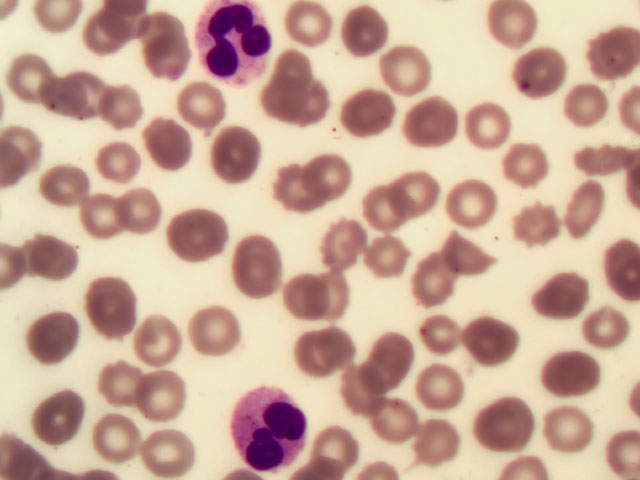RBC: (534, 262, 592, 320), (574, 298, 632, 356), (456, 319, 514, 377), (409, 308, 467, 366), (370, 334, 428, 392), (308, 325, 366, 383), (273, 324, 331, 382), (287, 264, 345, 322), (185, 306, 243, 364), (123, 314, 181, 372), (95, 357, 153, 415), (130, 369, 188, 427), (133, 422, 191, 480), (89, 408, 147, 466), (30, 390, 88, 448), (311, 422, 369, 480), (358, 394, 416, 452), (345, 368, 403, 426), (415, 415, 473, 473), (415, 358, 473, 416), (487, 397, 545, 455), (539, 401, 597, 459), (544, 348, 602, 406), (207, 126, 261, 186), (173, 73, 227, 133), (146, 31, 200, 91), (257, 51, 311, 111), (284, 76, 338, 136), (335, 75, 389, 135), (376, 40, 430, 100), (339, 5, 393, 65), (418, 96, 472, 156), (468, 97, 522, 157), (528, 40, 582, 100), (586, 21, 640, 81), (561, 76, 615, 136), (582, 132, 636, 192), (499, 138, 553, 198), (439, 173, 493, 233), (387, 162, 441, 222), (354, 183, 408, 243), (309, 149, 363, 209), (274, 155, 328, 215), (317, 222, 371, 282), (362, 227, 416, 287), (406, 251, 460, 311), (446, 221, 500, 281), (516, 198, 570, 258), (560, 179, 614, 239), (124, 1, 178, 60), (81, 1, 135, 60), (280, 1, 334, 60), (482, 1, 536, 60), (6, 49, 57, 105), (45, 71, 96, 127), (86, 69, 137, 125), (106, 81, 157, 137), (152, 114, 203, 170), (90, 139, 141, 195), (45, 156, 96, 212), (76, 188, 127, 244), (123, 181, 174, 237), (174, 205, 225, 261), (232, 238, 283, 294), (87, 280, 138, 336), (29, 305, 80, 361), (26, 234, 77, 290), (597, 245, 637, 290)
WBC: (224, 389, 310, 472), (195, 1, 277, 81)
